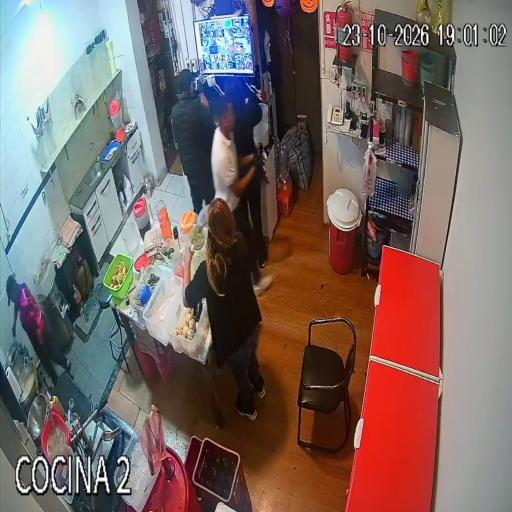Envase Llajua: (52, 395, 64, 419)
Jarra1: (134, 197, 150, 230)
Jarra2: (181, 210, 197, 237)
Jarra3: (122, 219, 142, 259)
Persona1: (171, 69, 215, 212)
Persona2: (183, 199, 265, 419)
Persona3: (211, 97, 271, 290)
Persona4: (225, 79, 262, 156), (243, 178, 267, 266)
Persona5: (6, 274, 71, 384)
Taper: (103, 255, 133, 298)
Taper2: (143, 272, 182, 346)
Taper3: (168, 301, 209, 358)
Taper4: (114, 430, 158, 512)
Taper5: (130, 264, 163, 315)
